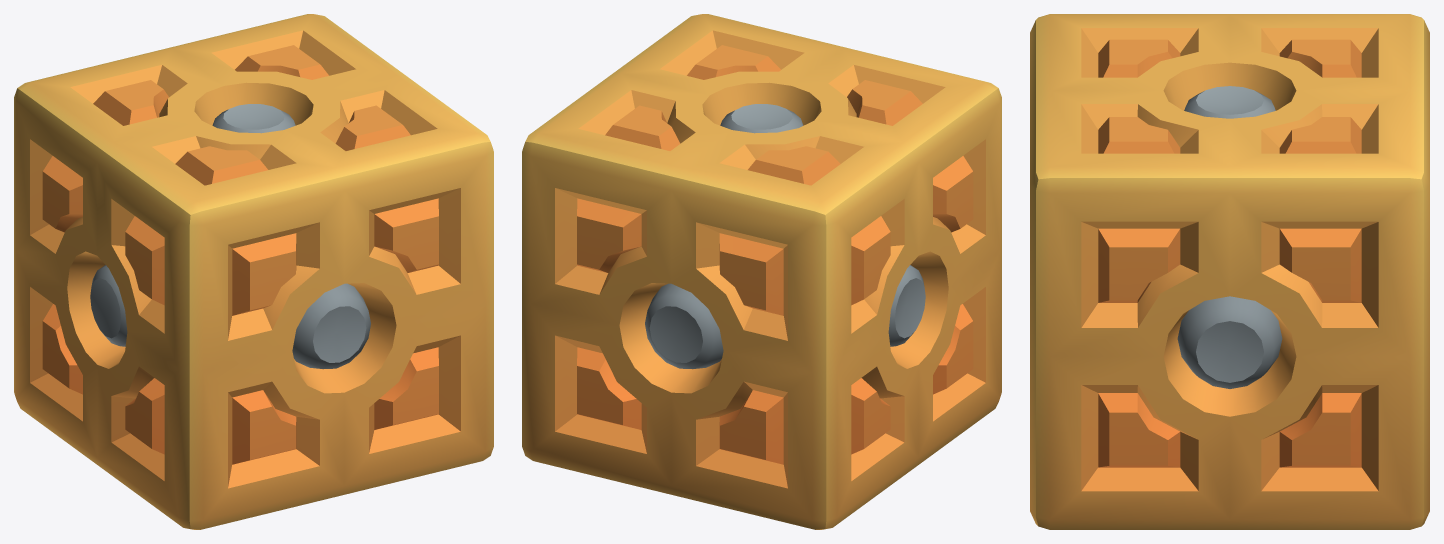
File: decorative_block_yellow.glb
3 renders of one model, left to right at view 1: azimuth 30°, elevation 25°; view 2: azimuth 150°, elevation 25°; view 3: azimuth 270°, elevation 25°, orthographic. The views are drawn at different scales.
Visible parts, largest first — view 1: decorative_block_yellow; view 2: decorative_block_yellow; view 3: decorative_block_yellow.
Part boxes in pixels (x1,y1,x2,y2): decorative_block_yellow: (14, 14, 493, 529); decorative_block_yellow: (522, 14, 1001, 529); decorative_block_yellow: (1030, 14, 1429, 529).
Size of the model in its own units: 2 by 2 by 2.
1 material, 1 textured.
